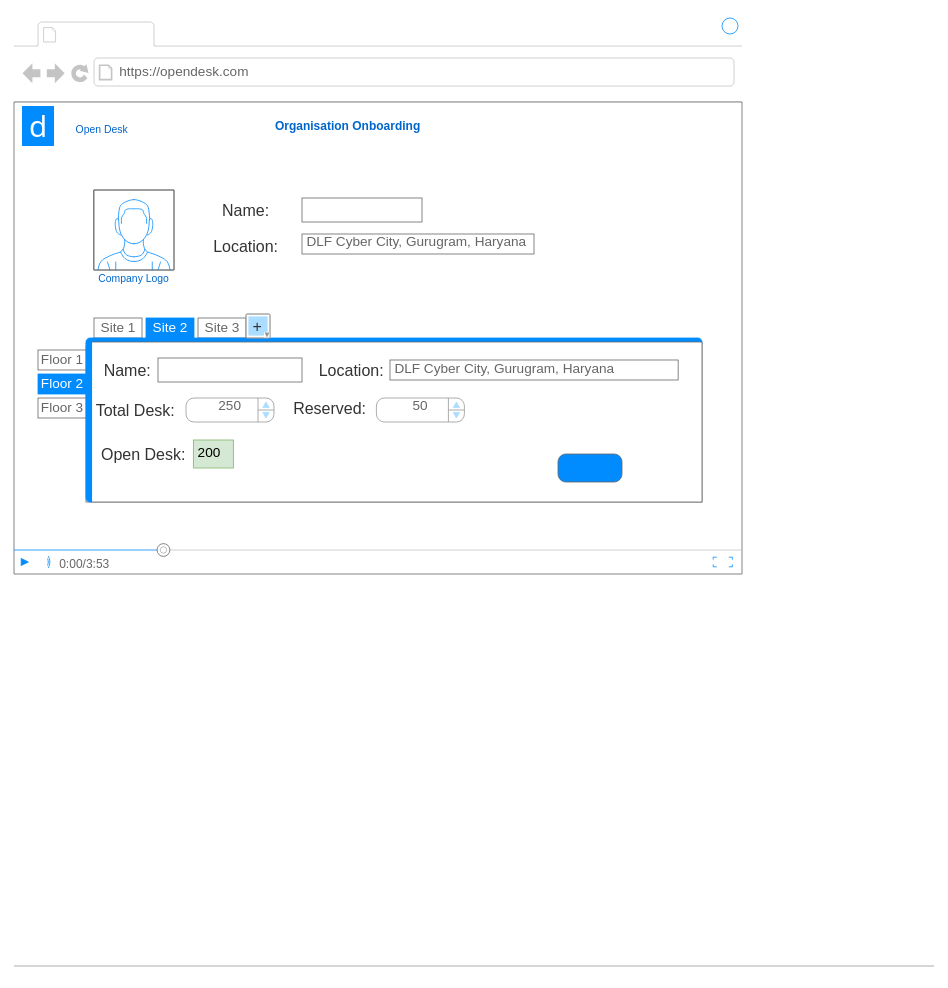
This 948x988 diagram has some shape labels left out. The shapes that lost their labels are listed below. From the top down, each one's centre as x and y in pixels, then its label:
At point 105,33: "Page 1".
At point 361,209: "R Corp Limited".
At point 229,369: "R Corp Limited, Noida".
At point 589,467: "Save".
